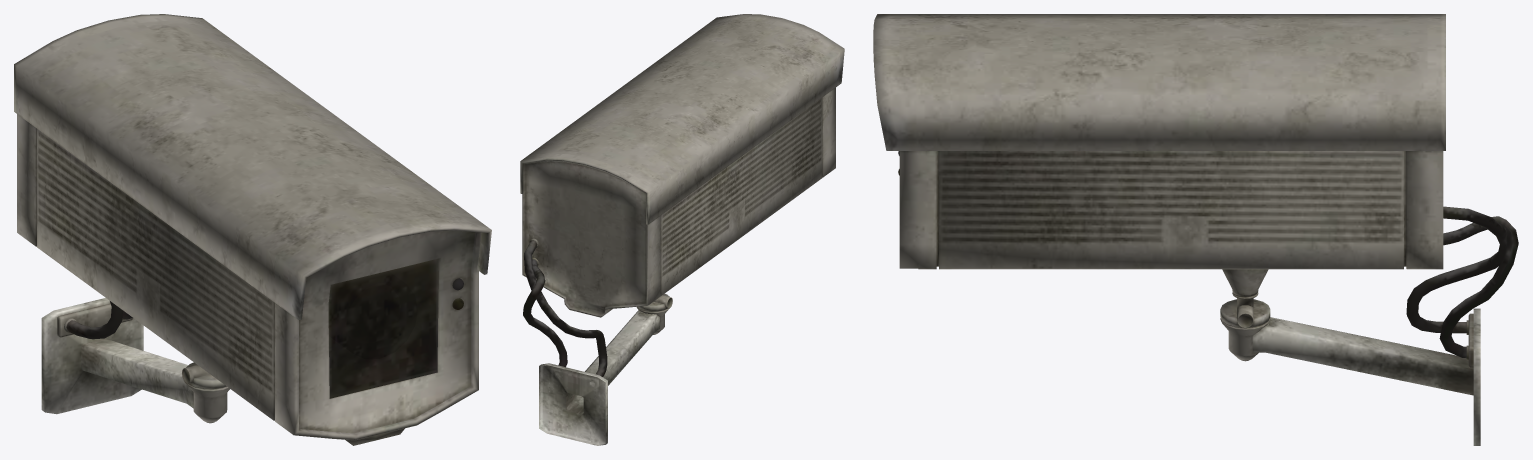
The model's file is camera.gltf.
3 renders of one model, left to right at view 1: azimuth 30°, elevation 25°; view 2: azimuth 150°, elevation 25°; view 3: azimuth 270°, elevation 25°, orthographic. The views are drawn at different scales.
Parts seen in each view (by area): view 1: defaultMaterial.001, defaultMaterial; view 2: defaultMaterial.001, defaultMaterial; view 3: defaultMaterial.001, defaultMaterial.
Part boxes in pixels (<box>): defaultMaterial.001: <box>14,14,491,445</box>; defaultMaterial: <box>66,258,463,398</box>; defaultMaterial.001: <box>520,14,844,445</box>; defaultMaterial: <box>523,240,607,376</box>; defaultMaterial.001: <box>873,14,1480,445</box>; defaultMaterial: <box>898,151,1518,358</box>.
Bounding box in the file's own units: 0.0994 × 0.199 × 0.3.
2 materials, 2 textured.
